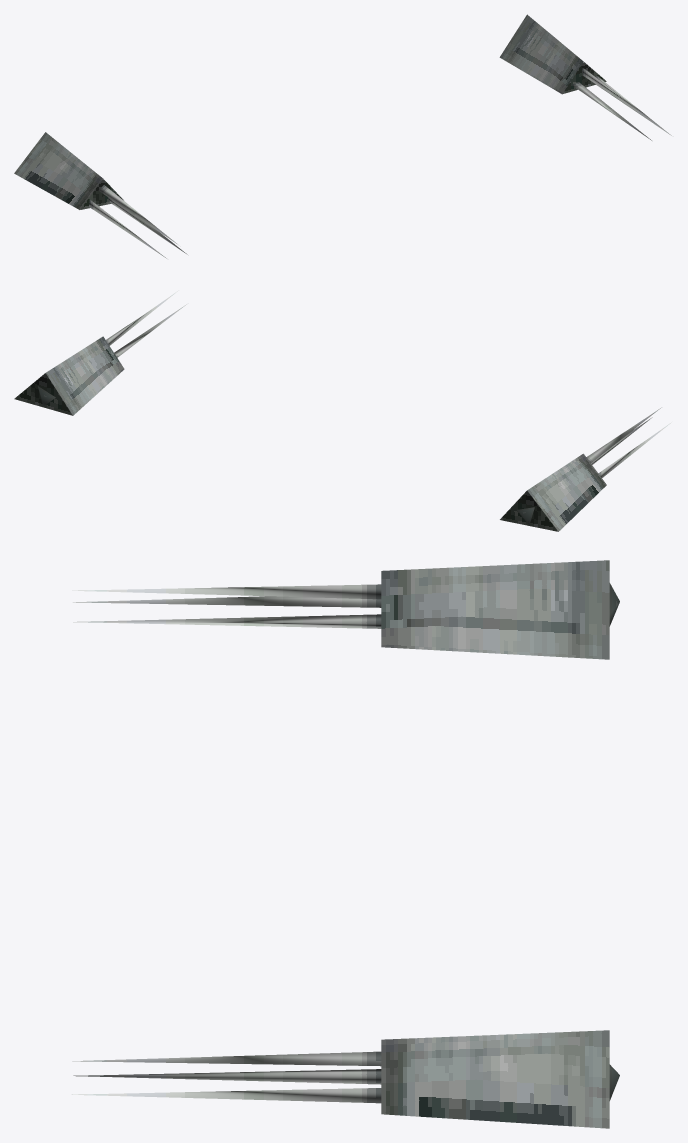
Rendered from black_sun_fighter_medium_weapon2_s04_l3.fbx.
The picture shows the model from 3 angles, top to bottom: view 1: azimuth 30°, elevation 25°; view 2: azimuth 150°, elevation 25°; view 3: azimuth 270°, elevation 25°; orthographic projection. The views are drawn at different scales.
Visible parts, largest first — view 1: mesh_node; view 2: mesh_node; view 3: mesh_node.
Boxes of the visible parts, <box> form: mesh_node: <box>14,14,671,258</box>; mesh_node: <box>14,290,671,531</box>; mesh_node: <box>72,560,619,1128</box>.
Size of the model in its own units: 7.89 by 0.5022 by 3.46.
Materials: 1 (1 with a texture image).
